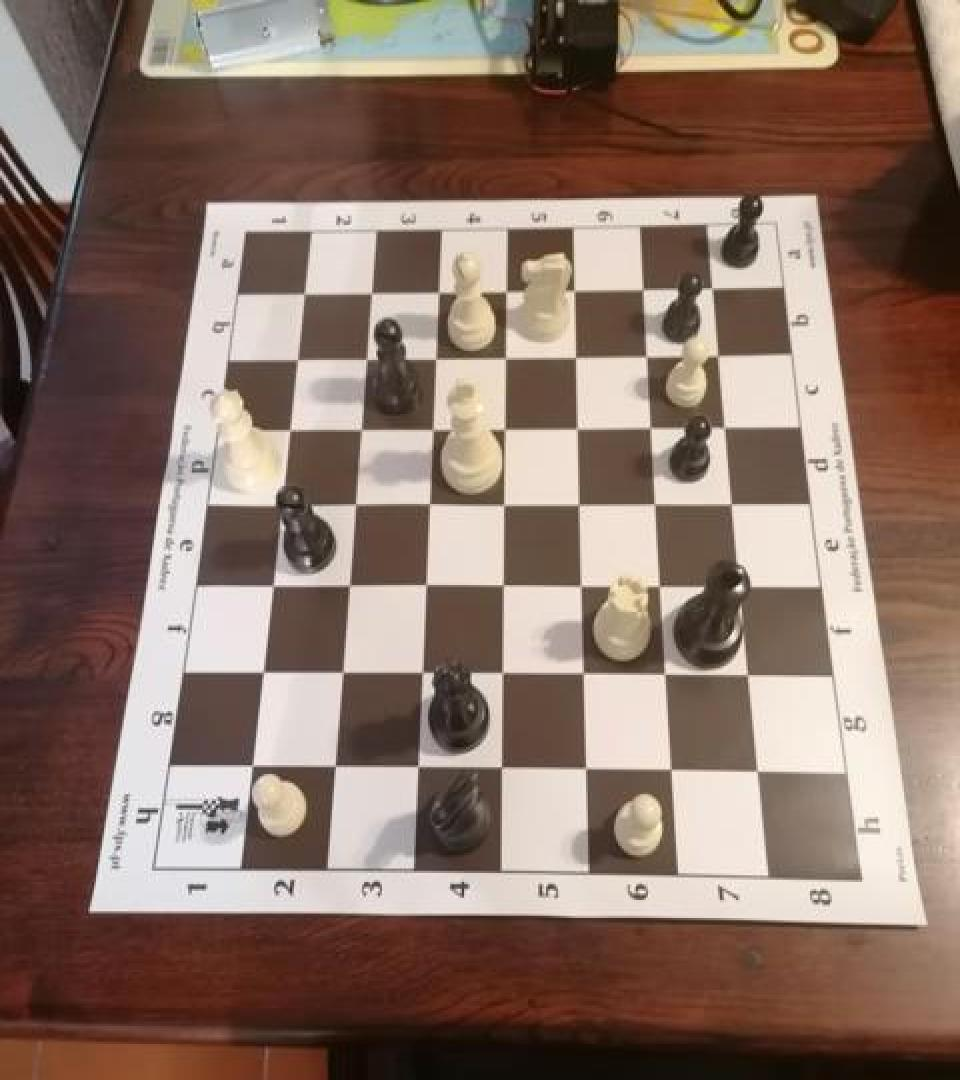xcorner: (696, 271, 726, 305), (628, 271, 658, 305), (559, 272, 589, 306), (491, 272, 521, 306), (424, 273, 454, 307), (356, 273, 386, 307), (561, 338, 591, 372), (491, 338, 521, 372), (421, 338, 451, 372), (351, 340, 381, 374), (282, 340, 312, 374), (710, 408, 740, 442), (637, 410, 667, 444), (563, 410, 593, 444), (490, 410, 520, 444), (418, 410, 448, 444), (346, 410, 376, 444), (275, 410, 305, 444), (718, 486, 748, 520), (642, 486, 672, 520), (565, 486, 595, 520), (490, 486, 520, 520), (415, 486, 445, 520), (340, 486, 370, 520), (266, 486, 296, 520), (727, 568, 757, 602), (647, 568, 677, 602), (568, 568, 598, 602), (489, 568, 519, 602), (412, 567, 442, 601), (334, 567, 364, 601), (257, 567, 287, 601), (736, 658, 766, 692), (653, 657, 683, 691), (571, 657, 601, 691), (489, 656, 519, 690), (408, 656, 438, 690), (328, 654, 358, 688), (248, 654, 278, 688), (746, 755, 776, 789), (659, 754, 689, 788), (573, 752, 603, 786), (404, 750, 434, 784), (320, 749, 350, 783), (237, 748, 267, 782), (290, 275, 320, 308), (703, 338, 733, 371), (632, 338, 662, 371), (488, 752, 518, 785)
